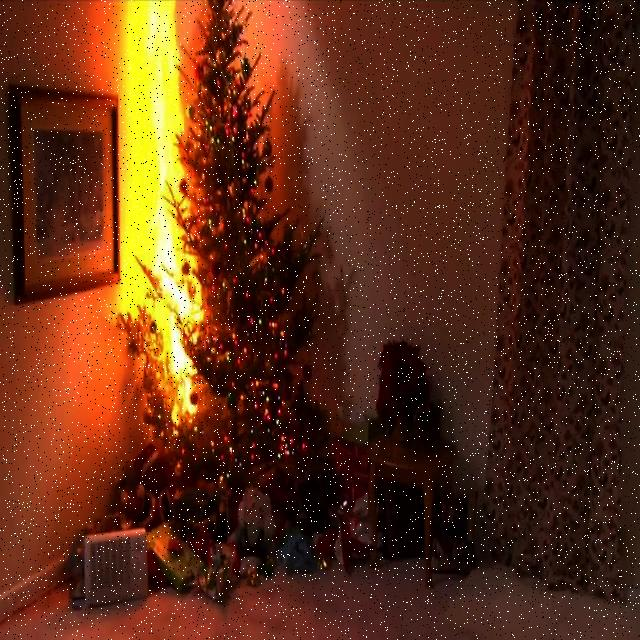fire: (108, 7, 206, 442)
